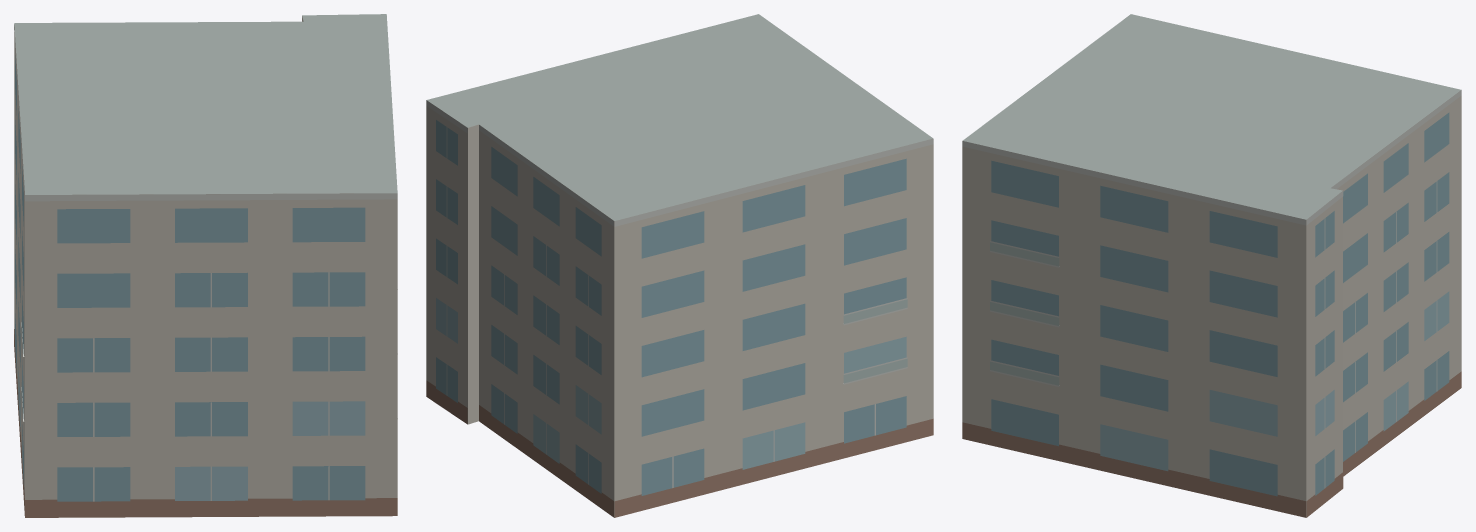
Rendered from survey-upis-32979634.glb.
3 views of the same model, side by side, from view 1: azimuth 30°, elevation 25°; view 2: azimuth 150°, elevation 25°; view 3: azimuth 270°, elevation 25° (orthographic). The views are drawn at different scales.
Parts seen in each view (by area): view 1: survey-upis-32979634.tmp; view 2: survey-upis-32979634.tmp; view 3: survey-upis-32979634.tmp.
Part boxes in pixels (left/top/right/bottom): survey-upis-32979634.tmp: left=14, top=14, right=397, bottom=517; survey-upis-32979634.tmp: left=426, top=14, right=933, bottom=517; survey-upis-32979634.tmp: left=962, top=14, right=1461, bottom=517.
Bounding box in the file's own units: 18.66 × 12.6 × 19.13.
